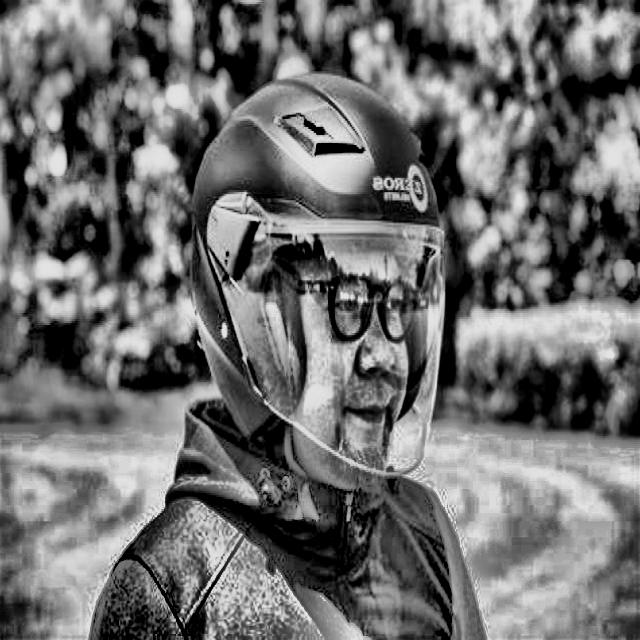Helmet: (181, 61, 450, 494)
